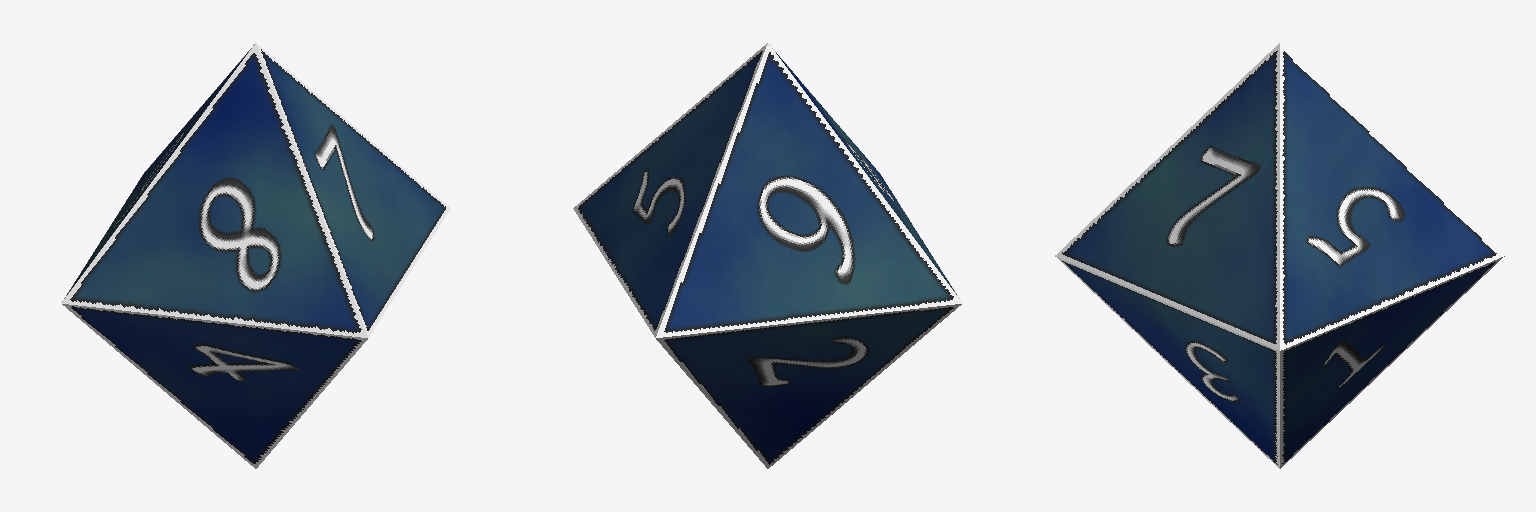
The picture shows the model from 3 angles: view 1: azimuth 30°, elevation 25°; view 2: azimuth 150°, elevation 25°; view 3: azimuth 270°, elevation 25°; orthographic projection.
Parts seen in each view (by area): view 1: Cone; view 2: Cone; view 3: Cone.
Boxes of the visible parts, <box> form: Cone: <box>61,43,450,468</box>; Cone: <box>573,43,962,468</box>; Cone: <box>1055,43,1504,468</box>.
Bounding box in the file's own units: 0.5968 × 0.6246 × 0.5968.
1 materials, 1 textured.